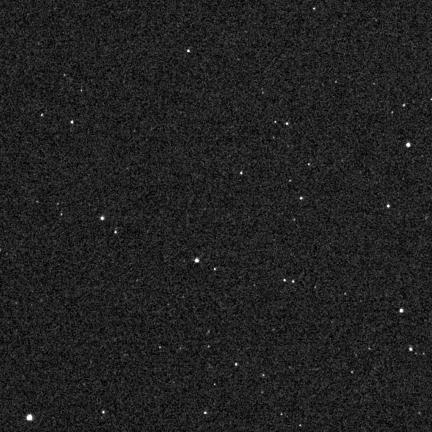blob: (27, 414, 33, 421), (406, 143, 411, 148), (400, 308, 404, 314), (100, 216, 105, 220), (195, 258, 199, 263), (409, 347, 413, 351), (204, 411, 208, 415), (300, 197, 304, 201), (187, 49, 191, 53), (403, 104, 406, 108), (114, 230, 117, 234), (284, 279, 287, 283), (214, 268, 217, 271), (41, 114, 44, 117), (387, 204, 390, 207), (240, 171, 242, 175), (286, 122, 288, 125), (71, 121, 73, 124), (292, 280, 294, 283), (235, 363, 237, 366)
